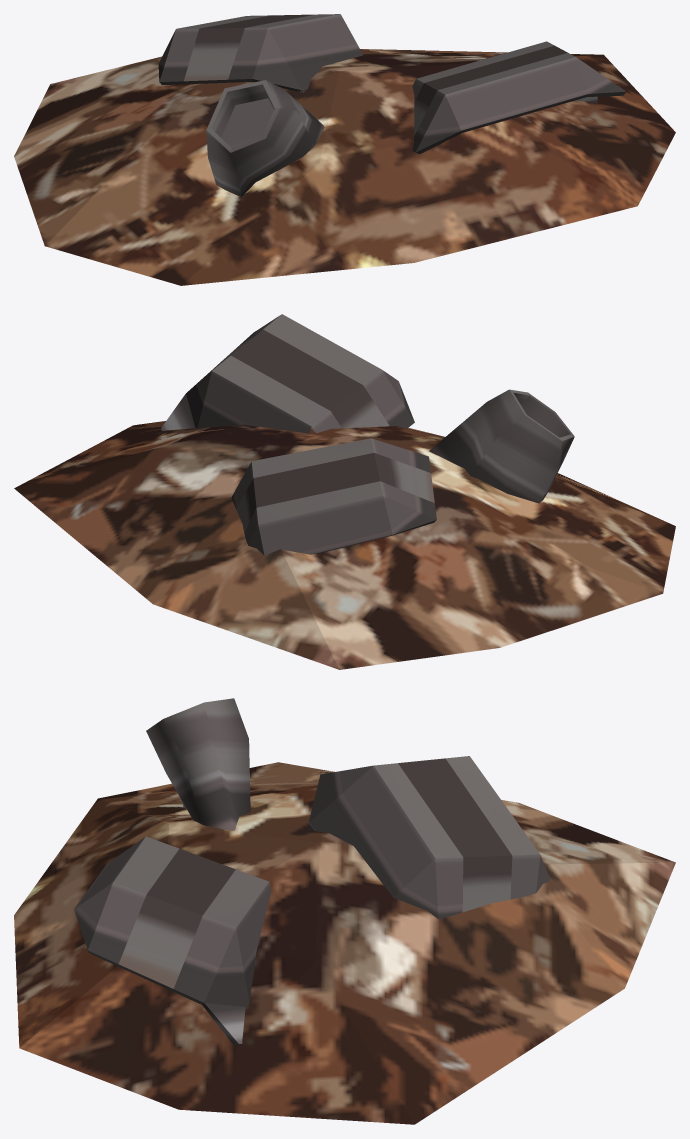
File: Trash_pile_003.fbx
3 renders of one model, top to bottom at view 1: azimuth 30°, elevation 25°; view 2: azimuth 150°, elevation 25°; view 3: azimuth 270°, elevation 25°, orthographic. The views are drawn at different scales.
Visible parts, largest first — view 1: Trash_pile_003; view 2: Trash_pile_003; view 3: Trash_pile_003.
Boxes of the visible parts, x1,y1,x2,y2 form: Trash_pile_003: [14, 14, 675, 285]; Trash_pile_003: [14, 314, 675, 669]; Trash_pile_003: [14, 698, 675, 1124].
Bounding box in the file's own units: 53.59 × 41.36 × 12.43.
